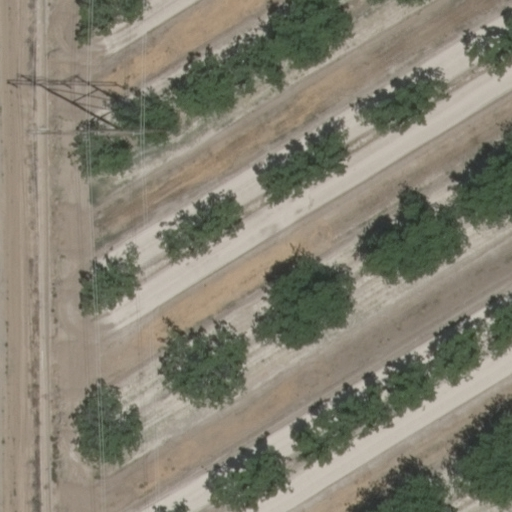TT: (37, 117, 170, 144)
